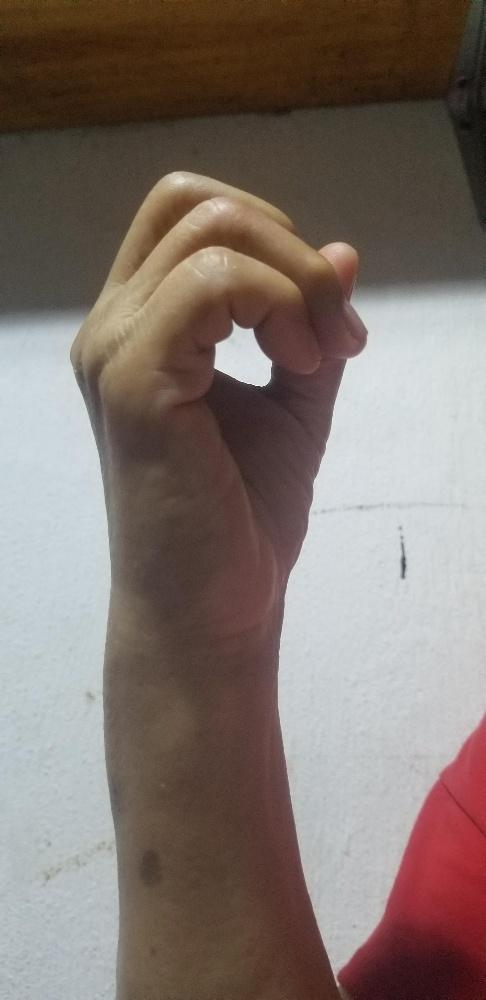o: (67, 163, 367, 603)
